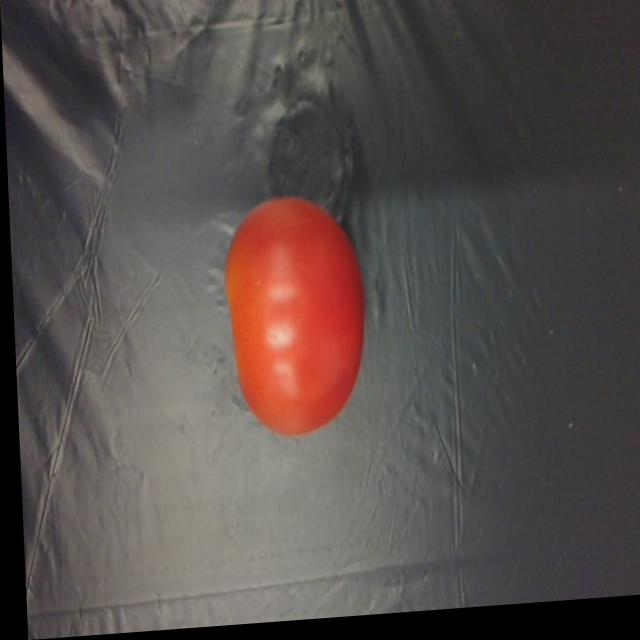kirmizi: (217, 172, 375, 458)
